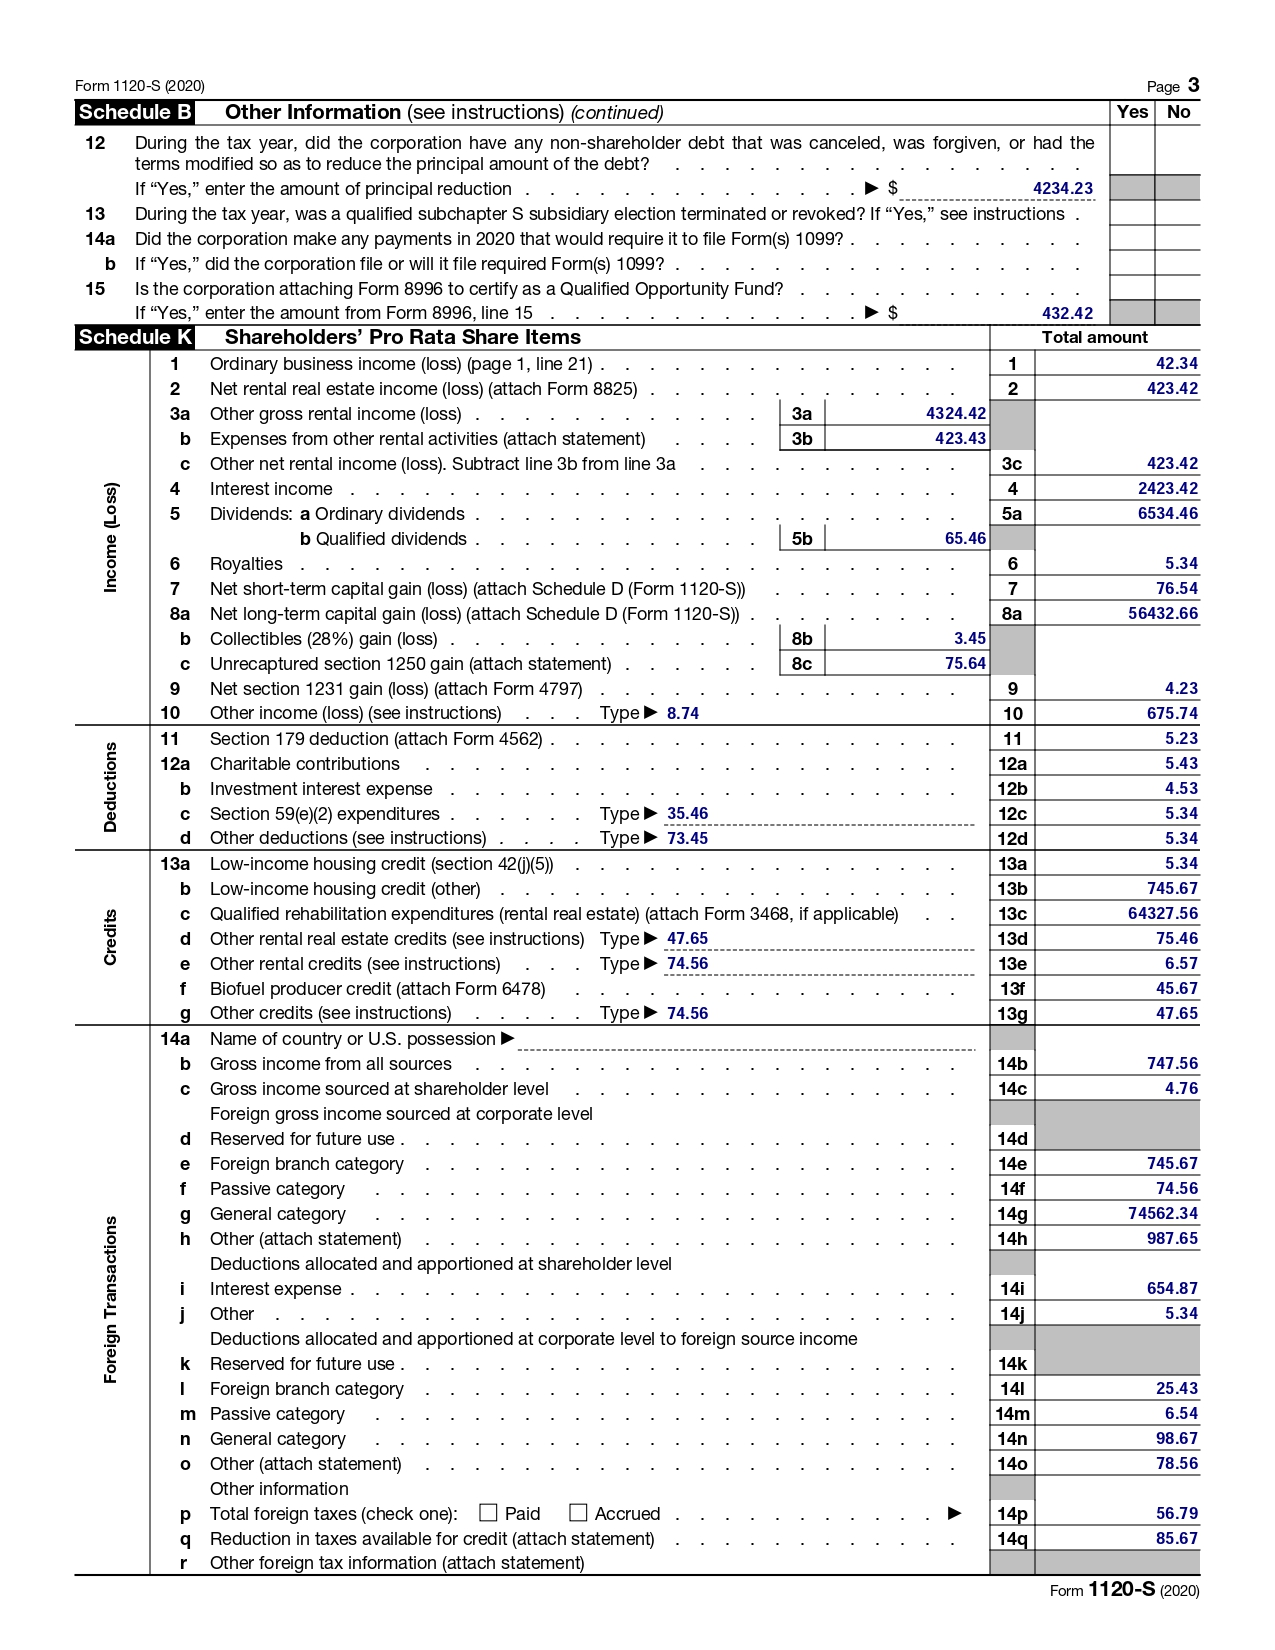table: (71, 323, 1213, 1578), (71, 96, 1216, 325)
